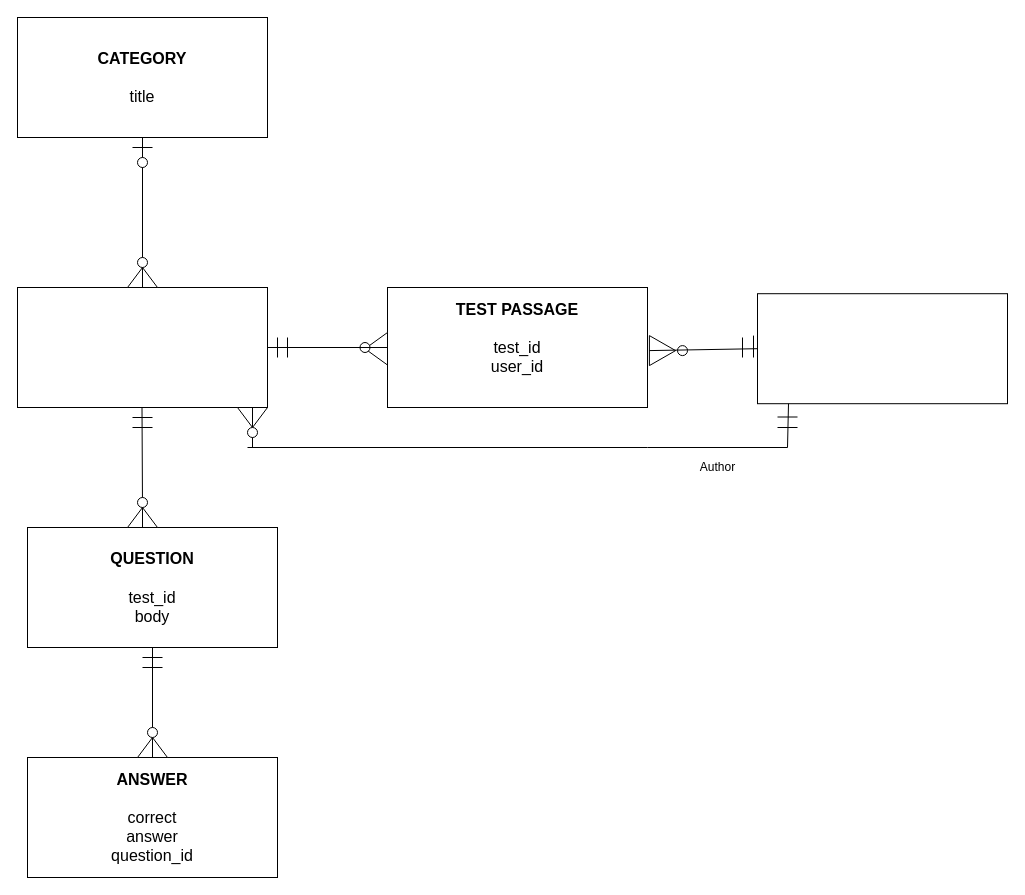
Some shapes in this 1025 by 895 pixel diagram are drawn without their labels. The shapes that lost their labels are listed below. From the top down, each one's box as (x1, y1, x2, y2) in pixels, then its label:
(16, 286, 268, 408): TEST title category category_id user_id
(756, 293, 1008, 404): USER name nickname
